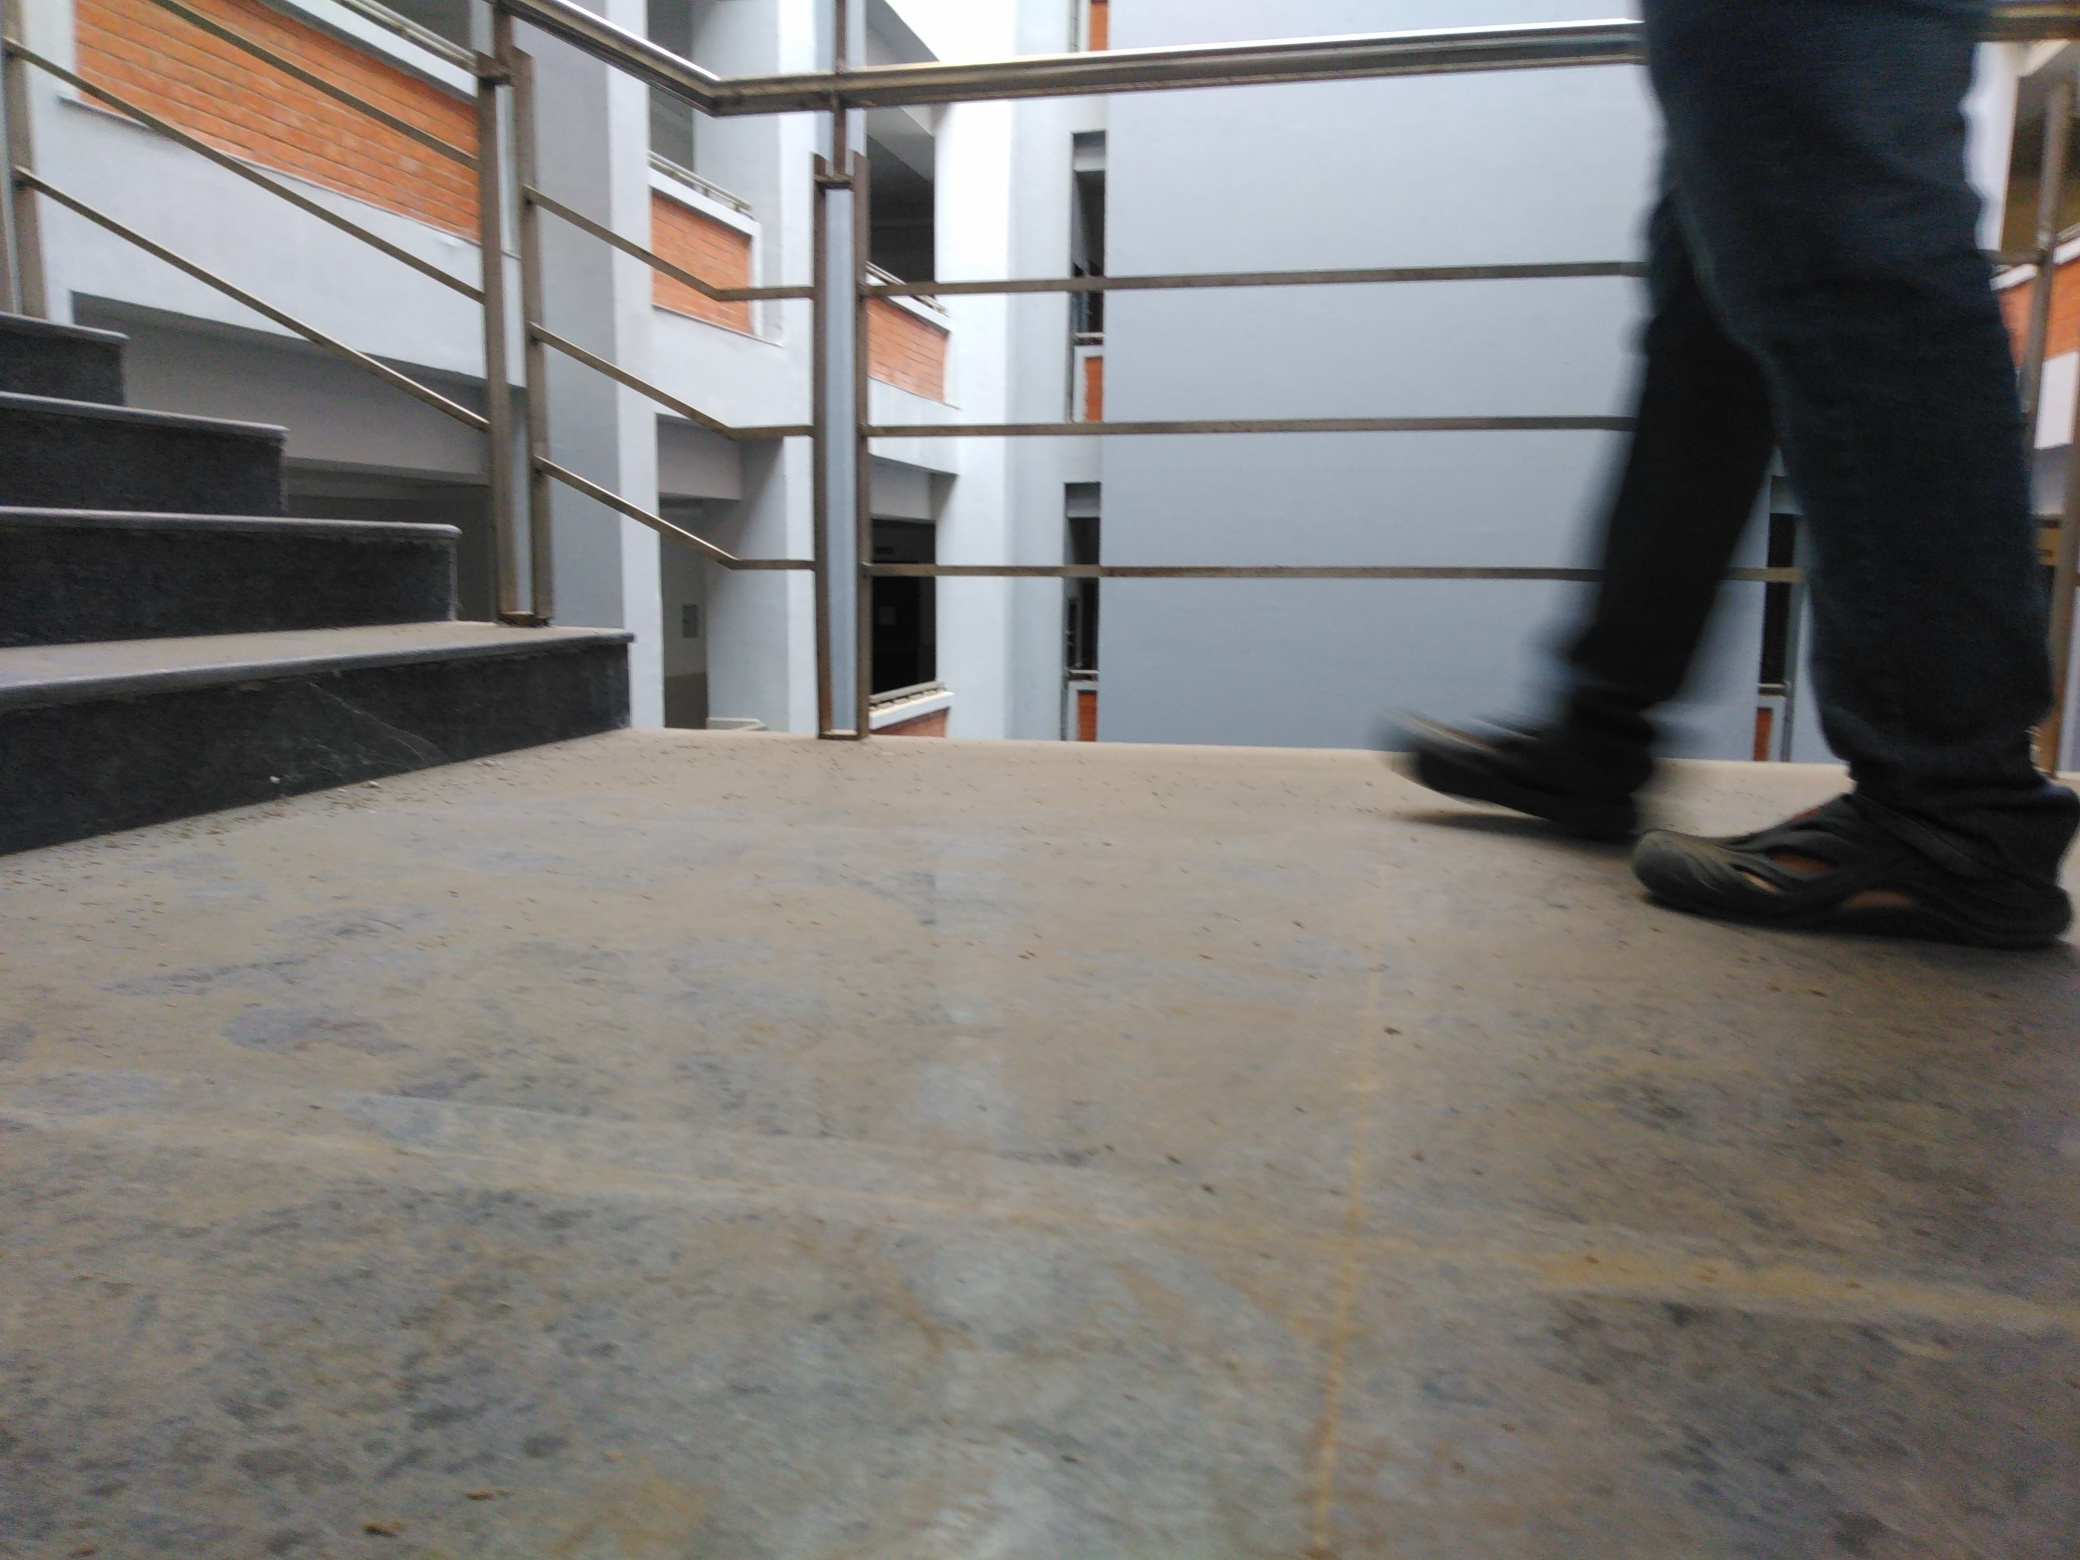stairs_up: (11, 305, 614, 813)
